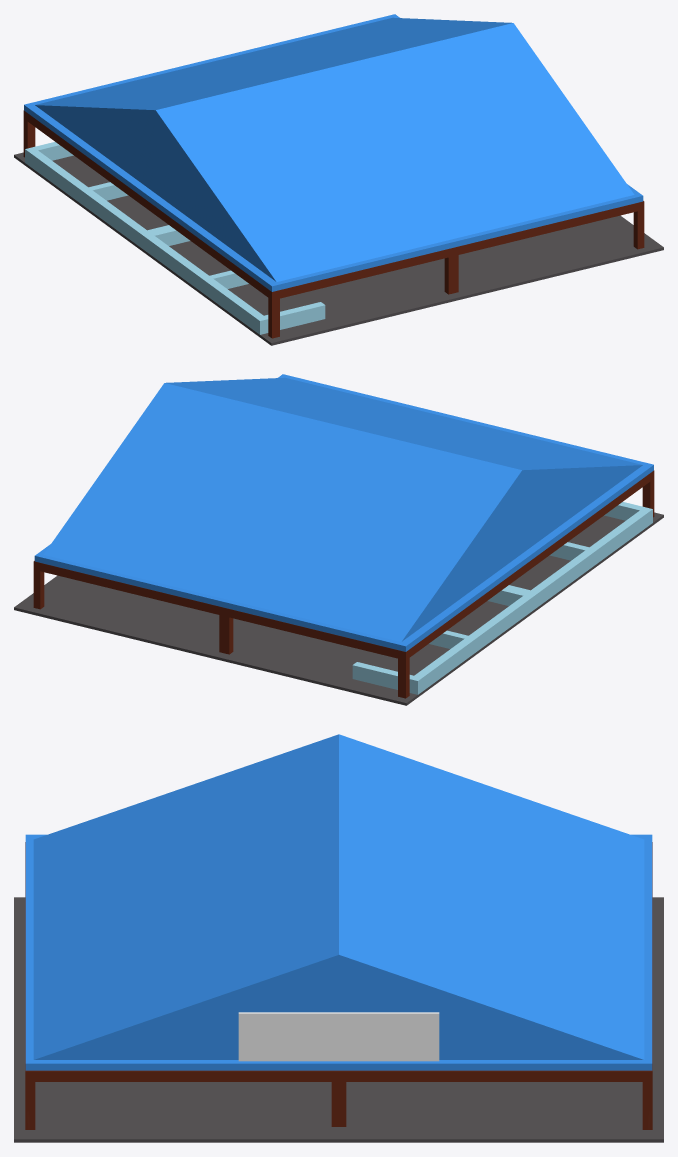
File: Kantin.fbx
3 renders of one model, top to bottom at view 1: azimuth 30°, elevation 25°; view 2: azimuth 150°, elevation 25°; view 3: azimuth 270°, elevation 25°, orthographic. The views are drawn at different scales.
Parts seen in each view (by area): view 1: Cube; view 2: Cube; view 3: Cube.
Part boxes in pixels (box(x1,y1,x2,y2)): Cube: box(14, 14, 663, 345); Cube: box(14, 374, 663, 705); Cube: box(14, 734, 663, 1142).
Bounding box in the file's own units: 3730 × 1255 × 4234.
Materials: 1 (1 with a texture image).
